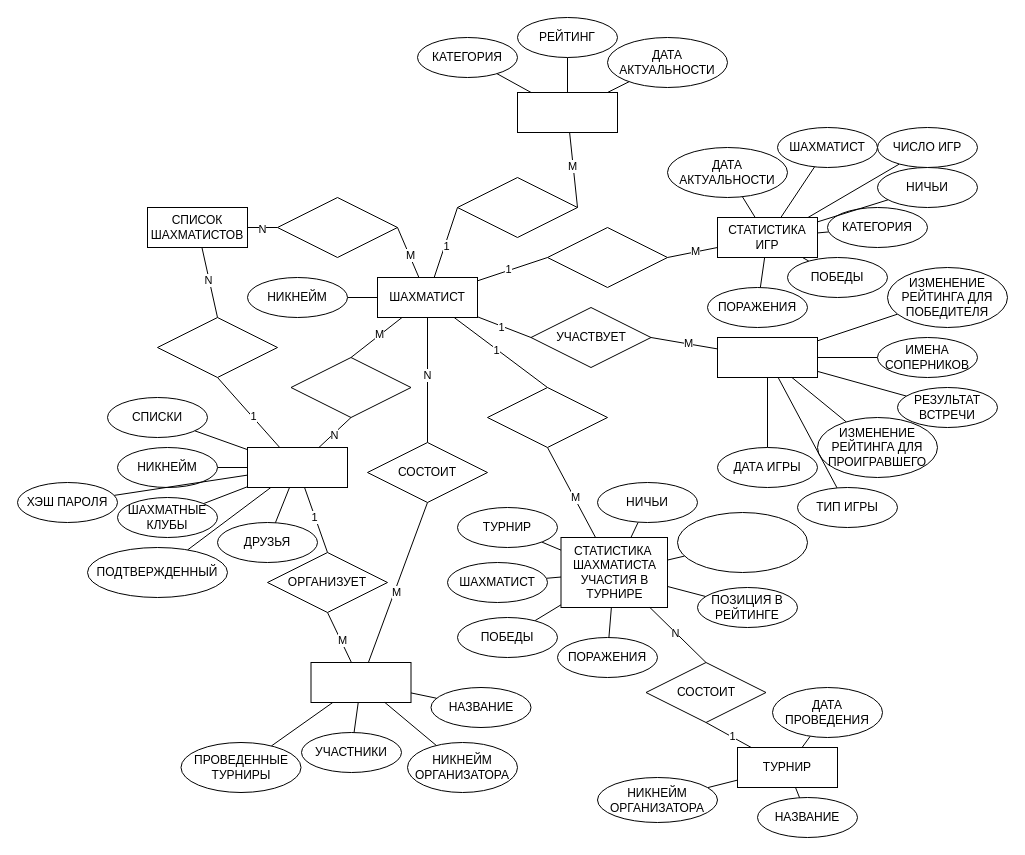
The diagram is 1025 pixels wide and 855 high, and some of its shapes have lost their labels. Here are the shapes that lost their labels. From the top down, the box of each, then its label:
(516, 92, 618, 132): ИСТОРИЯ РЕЙТИНГА
(276, 196, 398, 258): СОДЕРЖИТСЯ
(456, 176, 578, 238): ХРАНИТ
(546, 226, 668, 288): СОДЕРЖИТ
(156, 316, 278, 378): АНАЛИЗИРУЕТ
(716, 336, 818, 378): ИГРА
(290, 356, 411, 418): ДРУЖИТ
(486, 386, 608, 448): ИМЕЕТ
(246, 446, 348, 488): ПОЛЬЗОВАТЕЛЬ
(676, 512, 808, 572): СРЕДНИЙ РЕЙТИНГ СОПЕРНИКОВ
(310, 662, 411, 702): ШАХМАТНЫЙ КЛУБ
